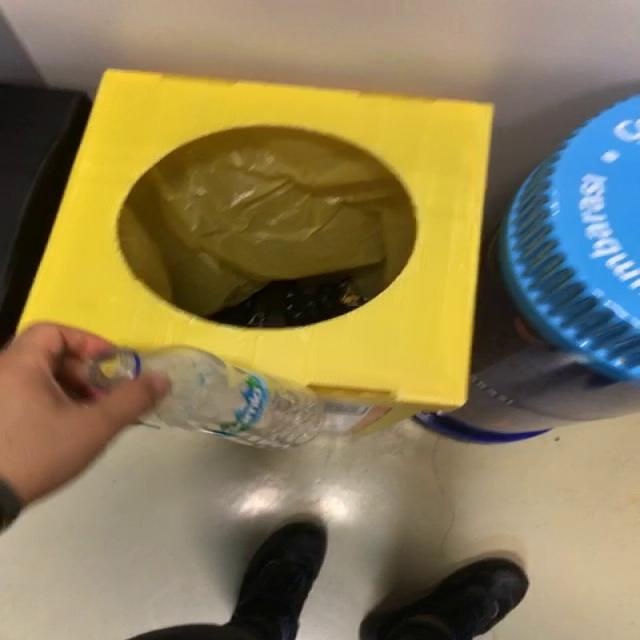plastic: (85, 347, 352, 450)
